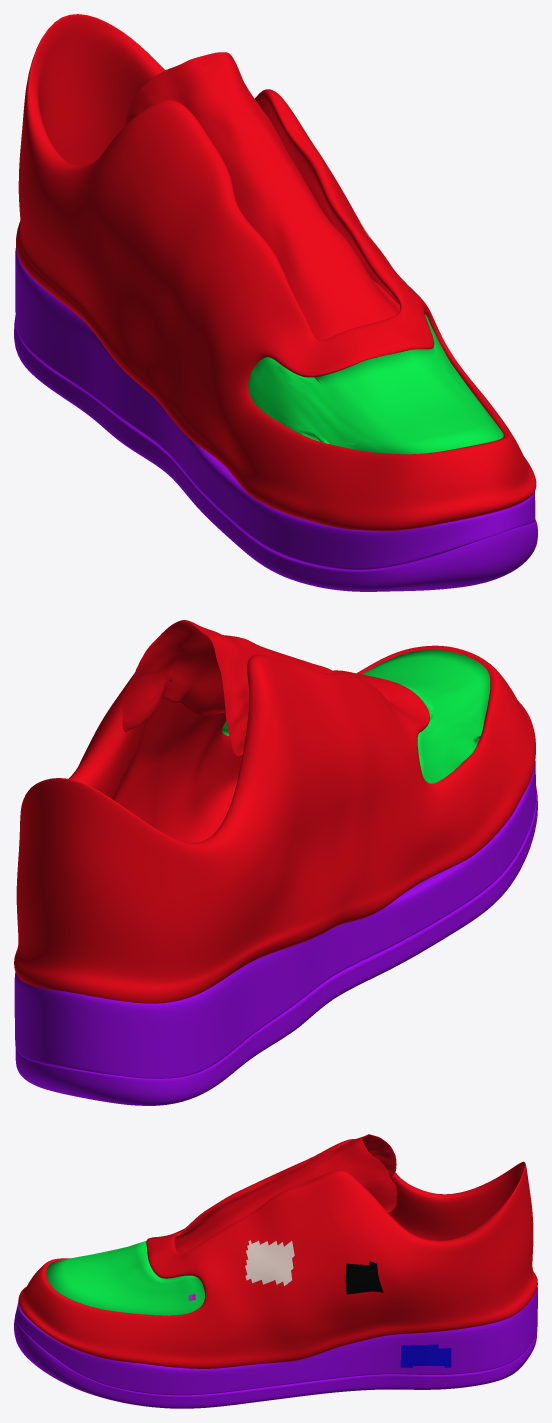
File: shoe.glb
The picture shows the model from 3 angles, top to bottom: view 1: azimuth 30°, elevation 25°; view 2: azimuth 150°, elevation 25°; view 3: azimuth 270°, elevation 25°; orthographic projection. The views are drawn at different scales.
Parts seen in each view (by area): view 1: body, sole, tip; view 2: body, sole, tip; view 3: body, sole, tip.
Part boxes in pixels (x1,y1,x2,y2): body: (16,14,536,531); sole: (14,246,537,591); tip: (248,314,503,454); body: (14,620,535,1003); sole: (14,761,537,1105); tip: (222,649,490,783); body: (18,1134,537,1368); sole: (14,1287,537,1408); tip: (46,1240,204,1315).
Size of the model in its own units: 0.957 by 1.4 by 2.83.
